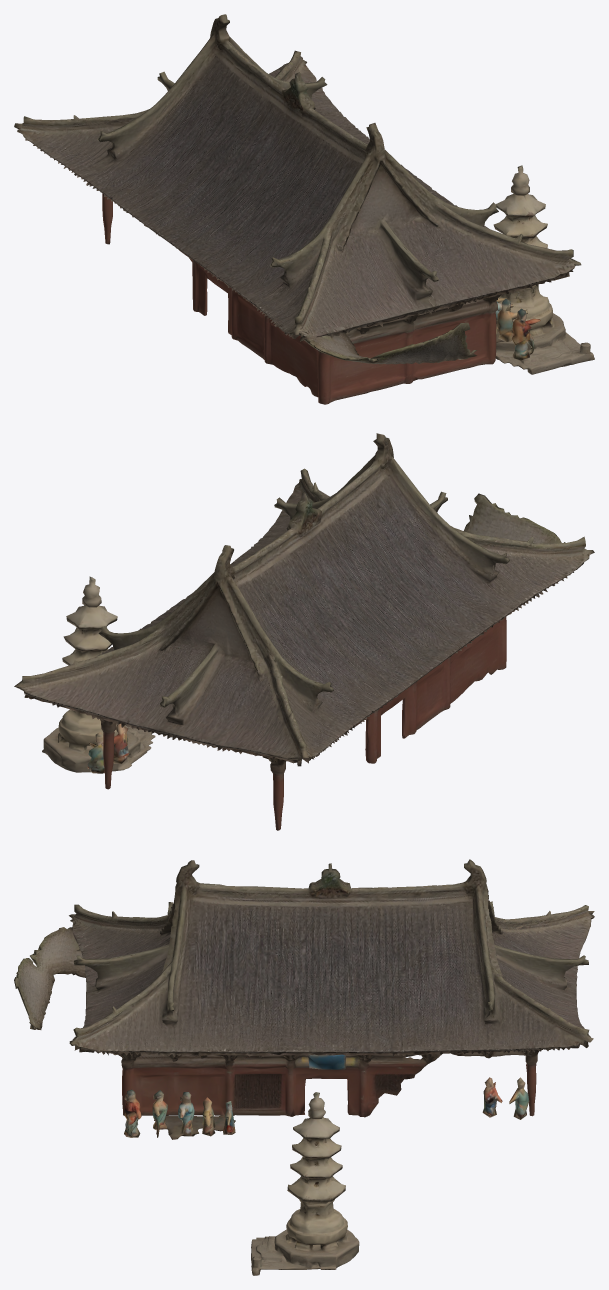
Rendered from building-faxingsi.glb.
The picture shows the model from 3 angles, top to bottom: view 1: azimuth 30°, elevation 25°; view 2: azimuth 150°, elevation 25°; view 3: azimuth 270°, elevation 25°; orthographic projection. The views are drawn at different scales.
Visible parts, largest first — view 1: node_a04725a8-8e00-4874-a2e7-ffe2b92cf369; view 2: node_a04725a8-8e00-4874-a2e7-ffe2b92cf369; view 3: node_a04725a8-8e00-4874-a2e7-ffe2b92cf369.
Boxes of the visible parts, x1,y1,x2,y2 form: node_a04725a8-8e00-4874-a2e7-ffe2b92cf369: (14,14,594,404); node_a04725a8-8e00-4874-a2e7-ffe2b92cf369: (14,433,594,830); node_a04725a8-8e00-4874-a2e7-ffe2b92cf369: (14,859,594,1275).
Size of the model in its own units: 0.7392 by 0.5697 by 1.
Materials: 1 (1 with a texture image).
